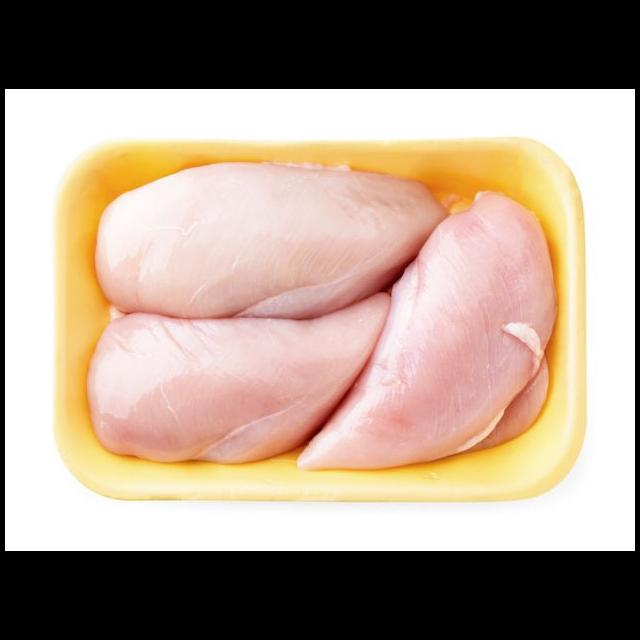chicken: (296, 190, 557, 471), (93, 160, 451, 318), (86, 291, 393, 464)
